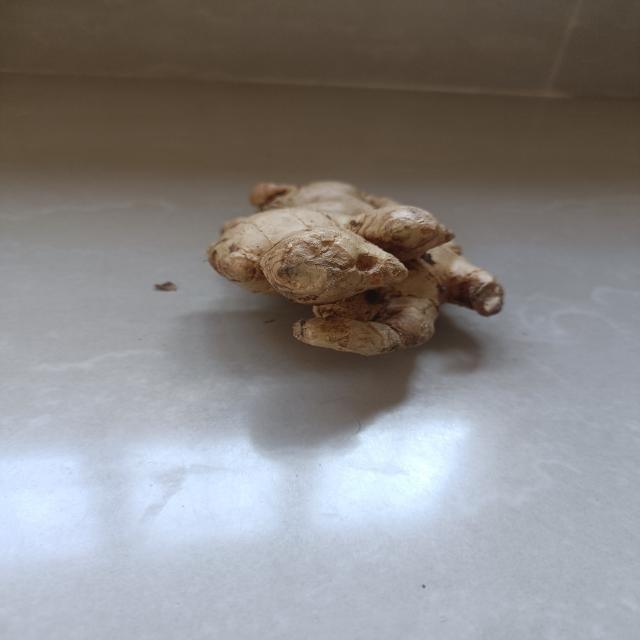ginger: (209, 179, 507, 356)
